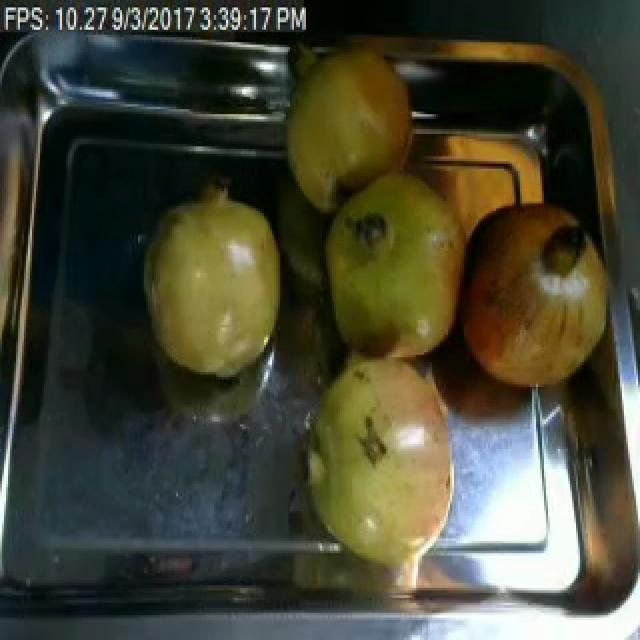fruit: (290, 342, 466, 576), (448, 186, 624, 404), (316, 164, 474, 372), (138, 176, 290, 390), (278, 32, 422, 214)
